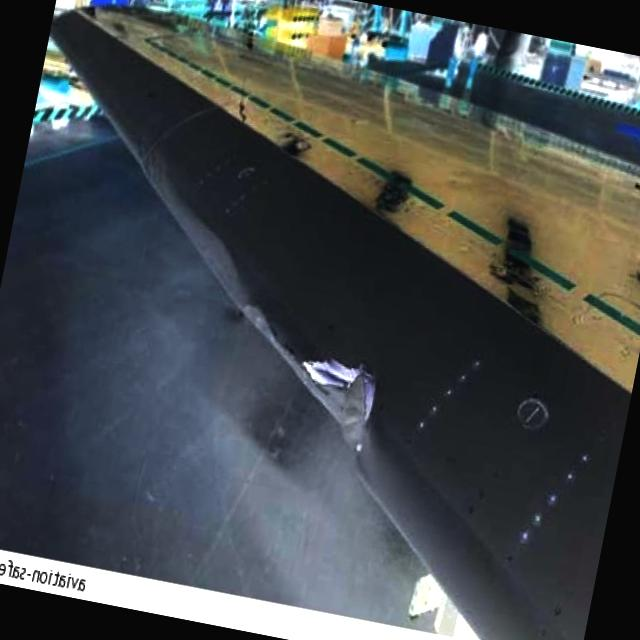crack: (283, 352, 384, 454)
dent: (157, 204, 297, 338)
